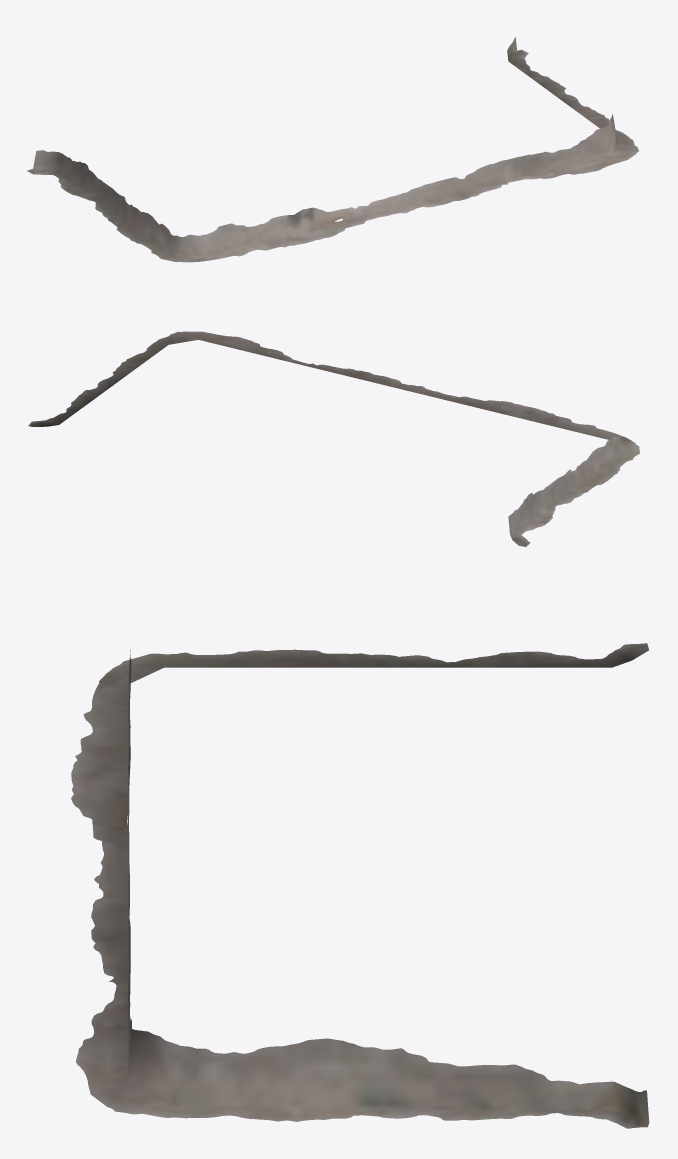
The model's file is SM_Wall_Concrete_Trim_Pillar_01b.glb.
3 renders of one model, top to bottom at view 1: azimuth 30°, elevation 25°; view 2: azimuth 150°, elevation 25°; view 3: azimuth 270°, elevation 25°, orthographic. The views are drawn at different scales.
Visible parts, largest first — view 1: SM_Wall_Concrete_Trim_Pillar_01b; view 2: SM_Wall_Concrete_Trim_Pillar_01b; view 3: SM_Wall_Concrete_Trim_Pillar_01b.
Boxes of the visible parts, x1,y1,x2,y2 form: SM_Wall_Concrete_Trim_Pillar_01b: (27, 37, 638, 262); SM_Wall_Concrete_Trim_Pillar_01b: (28, 331, 639, 546); SM_Wall_Concrete_Trim_Pillar_01b: (71, 643, 649, 1128).
Size of the model in its own units: 0.4828 by 0.0337 by 0.2452.
Materials: 1 (1 with a texture image).
